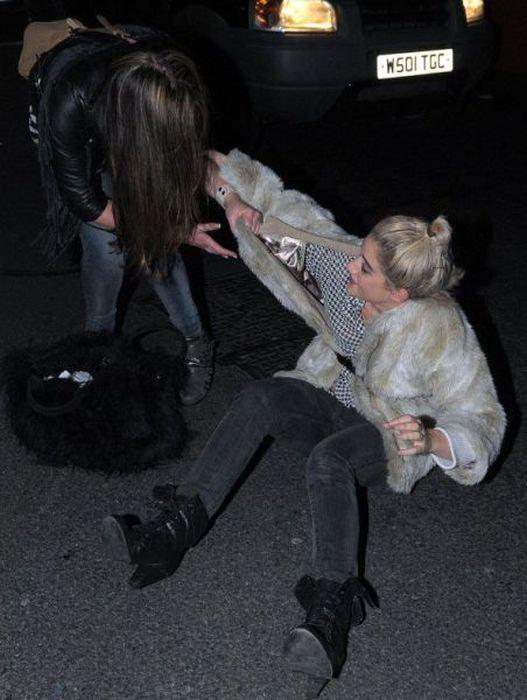Drunk: (346, 235, 398, 302)
